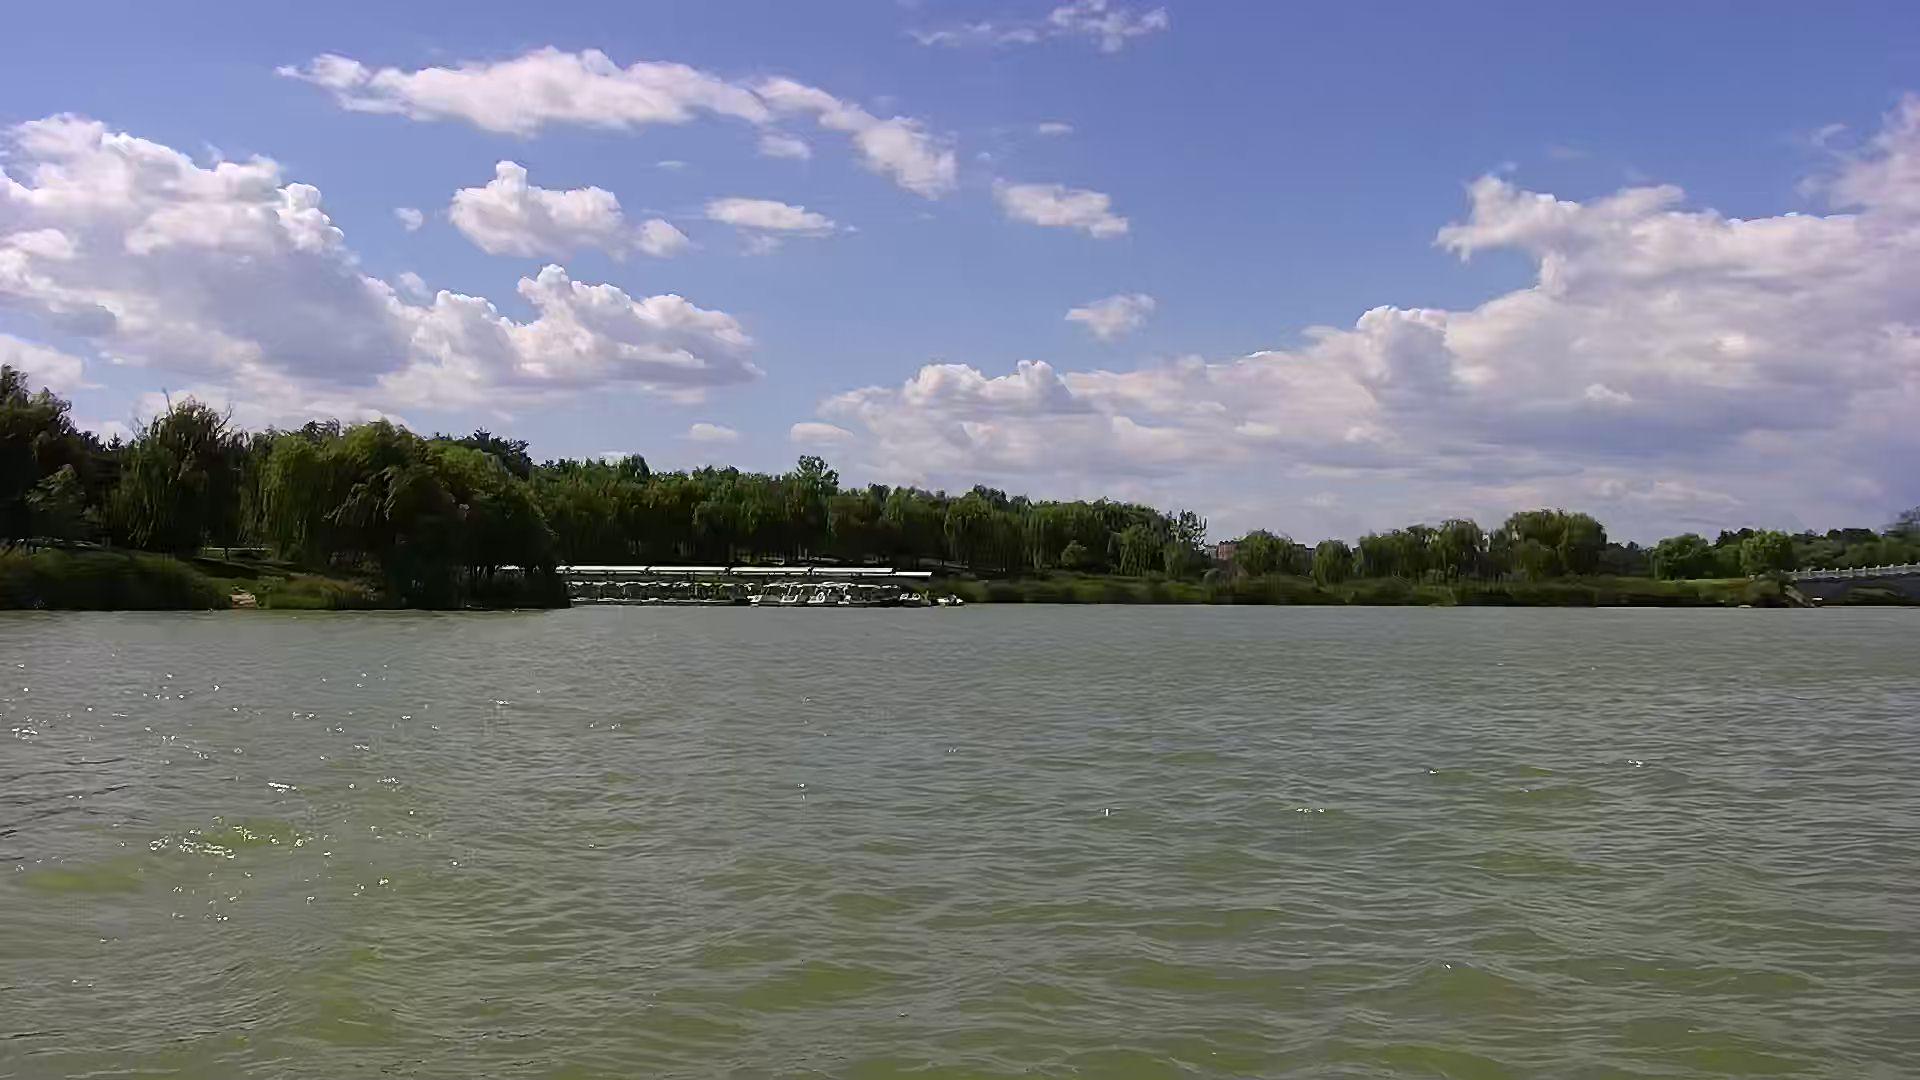harbor: (559, 564, 963, 611)
